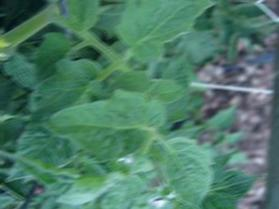Tomato leaf mosaic virus: (39, 85, 167, 159), (107, 0, 247, 63), (157, 127, 213, 205), (94, 171, 146, 209), (53, 52, 103, 86), (59, 0, 102, 35), (144, 76, 180, 99)
